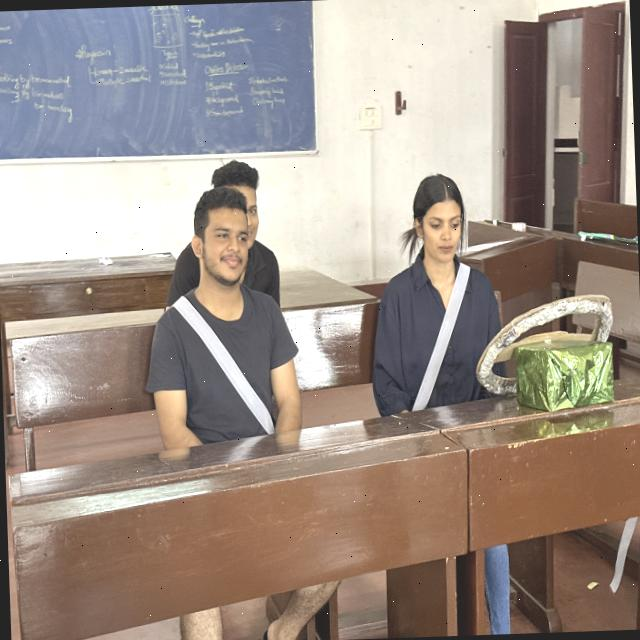seatbelt: (129, 290, 313, 457), (359, 262, 556, 382)
